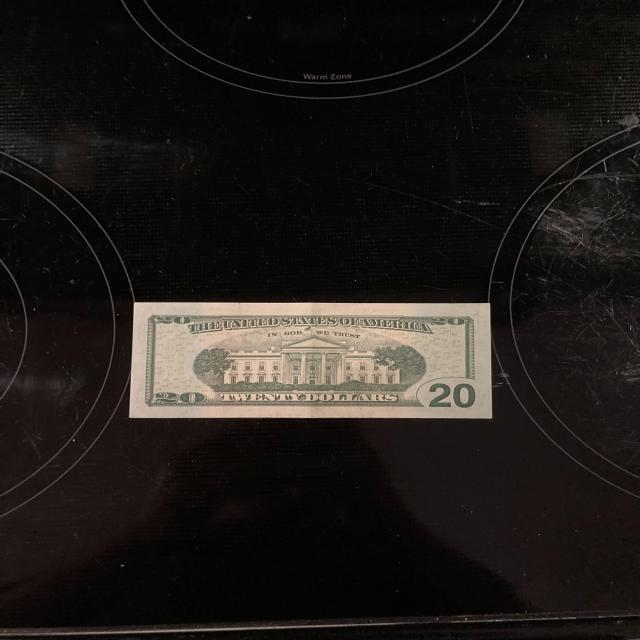twenty: (130, 302, 493, 419)
